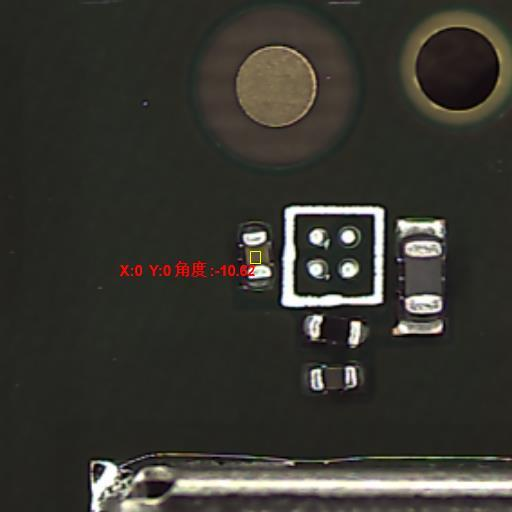bottom_layer: (396, 219, 445, 333), (239, 221, 273, 291), (302, 362, 364, 393), (304, 316, 367, 344)
top_layer: (405, 241, 442, 313), (311, 316, 360, 342), (244, 231, 270, 278), (309, 368, 356, 389)
